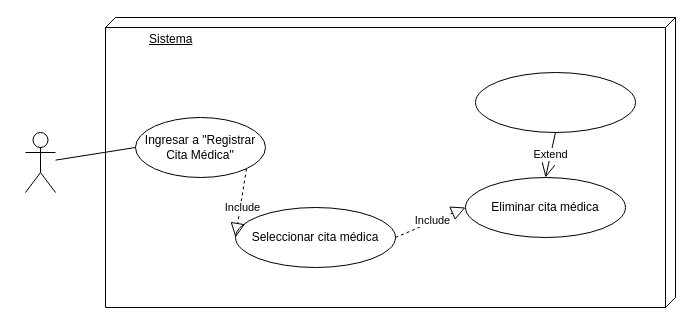
Some shapes in this 693 by 325 pixel diagram are drawn without their labels. Each missing label, with the centre of its shape:
Guardar modificación: (555,102)
Paciente: (40,162)
